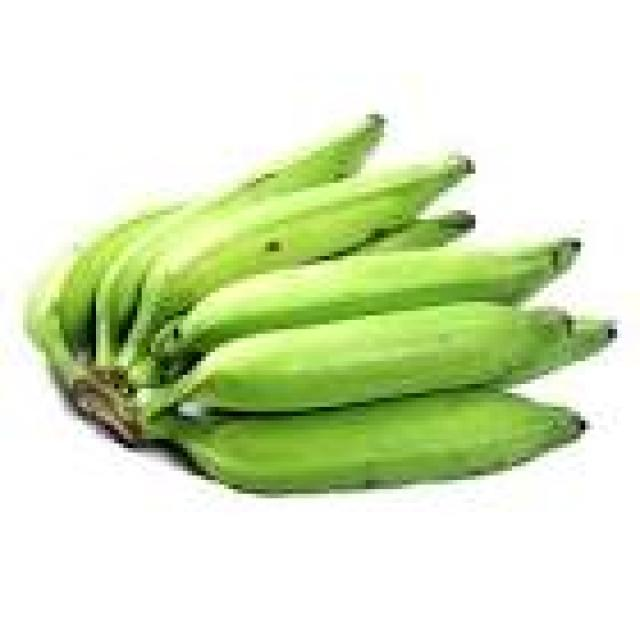banana: (119, 156, 470, 370), (96, 115, 383, 365), (151, 238, 580, 361), (138, 302, 571, 415), (151, 389, 585, 493), (60, 202, 182, 356), (499, 316, 617, 388), (23, 252, 82, 388), (357, 211, 475, 255)
